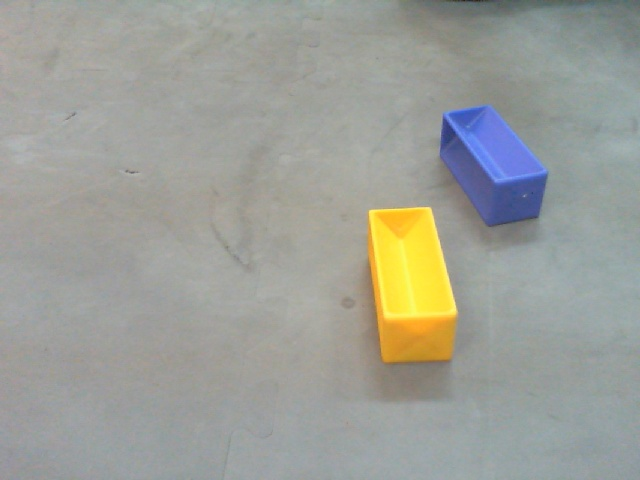BlueSample: (431, 100, 550, 231)
YellowSample: (365, 202, 462, 363)
